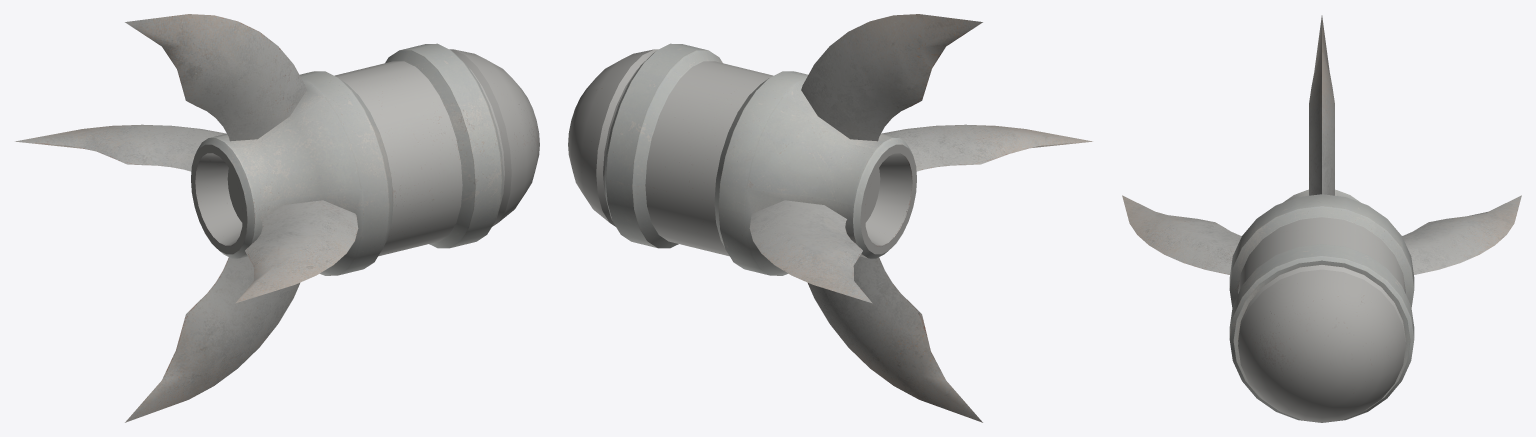
File: SM_MatraRocket_01.FBX
3 views of the same model, side by side, from view 1: azimuth 30°, elevation 25°; view 2: azimuth 150°, elevation 25°; view 3: azimuth 270°, elevation 25° (orthographic). The views are drawn at different scales.
Parts seen in each view (by area): view 1: SM_MatraRocket_01; view 2: SM_MatraRocket_01; view 3: SM_MatraRocket_01.
Boxes of the visible parts, x1,y1,x2,y2 form: SM_MatraRocket_01: [15, 14, 539, 422]; SM_MatraRocket_01: [568, 14, 1092, 422]; SM_MatraRocket_01: [1122, 15, 1521, 422].
Bounding box in the file's own units: 38.67 × 36.8 × 36.8.
